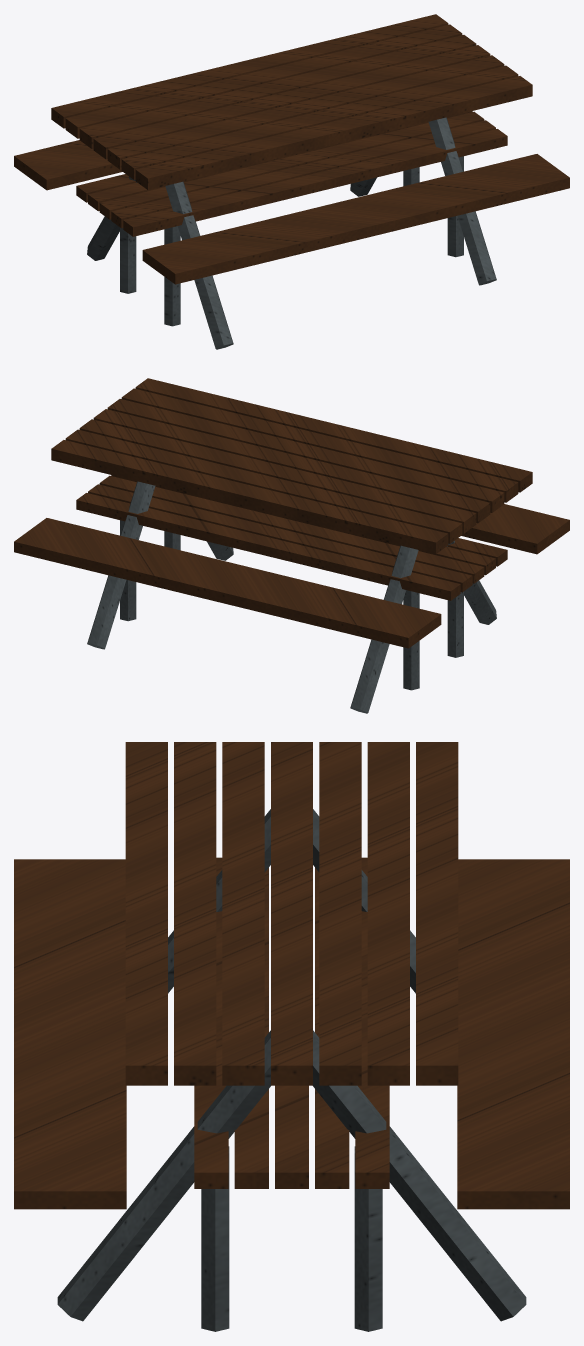
File: PROP-61744FEF0A60_lod2.glb
3 renders of one model, top to bottom at view 1: azimuth 30°, elevation 25°; view 2: azimuth 150°, elevation 25°; view 3: azimuth 270°, elevation 25°, orthographic. The views are drawn at different scales.
Parts seen in each view (by area): view 1: table_planks.001, picnic_seat.001, seat_slats.005, A_frame.001, bench_legs.005; view 2: table_planks.001, picnic_seat.001, seat_slats.005, A_frame.001, bench_legs.005; view 3: table_planks.001, picnic_seat.001, A_frame.001, seat_slats.005, bench_legs.005.
Part boxes in pixels (box(x1,y1,x2,y2)): table_planks.001: box(51, 14, 532, 189); picnic_seat.001: box(14, 140, 569, 284); seat_slats.005: box(76, 111, 507, 236); A_frame.001: box(87, 117, 496, 349); bench_legs.005: box(120, 156, 463, 326); table_planks.001: box(51, 378, 532, 553); picnic_seat.001: box(14, 504, 569, 648); seat_slats.005: box(76, 475, 507, 600); A_frame.001: box(87, 481, 496, 713); bench_legs.005: box(120, 520, 463, 690); table_planks.001: box(125, 742, 458, 1085); picnic_seat.001: box(14, 859, 569, 1209); A_frame.001: box(57, 809, 526, 1321); seat_slats.005: box(194, 857, 389, 1188); bench_legs.005: box(201, 1146, 382, 1331).
Bounding box in the file's own units: 1.95 × 0.8303 × 1.38.
Materials: 2 (2 with a texture image).
